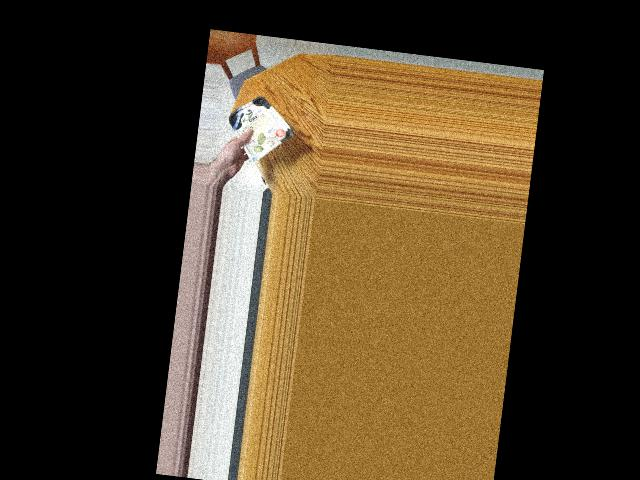cheese: (229, 101, 290, 146)
